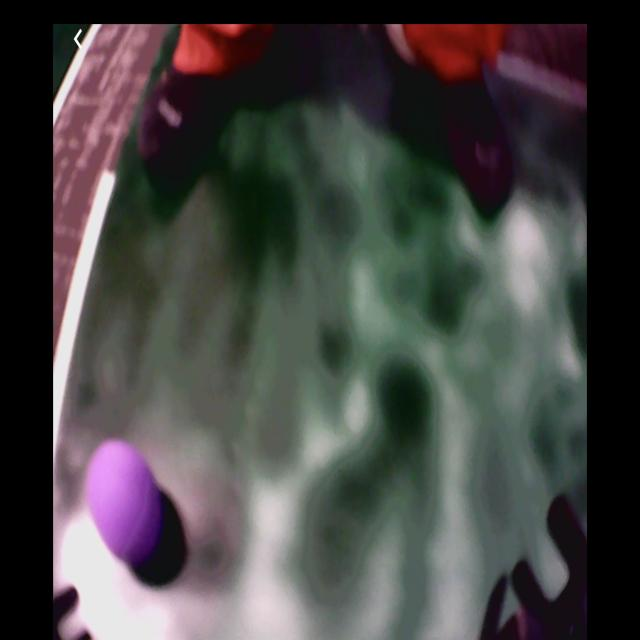ball: (84, 439, 160, 562)
